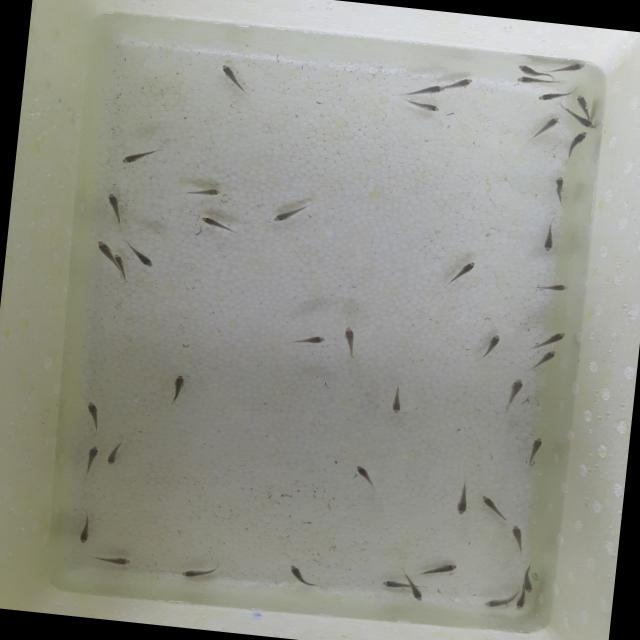fingerling: (439, 256, 484, 296), (214, 59, 252, 97), (120, 140, 167, 170), (398, 78, 446, 104), (178, 180, 228, 204), (347, 459, 380, 495), (525, 112, 562, 144), (475, 490, 512, 522), (418, 555, 460, 582), (559, 128, 590, 164), (502, 521, 534, 554), (534, 216, 560, 256), (527, 346, 564, 374), (270, 200, 307, 228), (527, 276, 573, 298), (285, 562, 322, 589), (477, 327, 505, 362), (402, 96, 446, 118), (175, 562, 219, 584), (498, 374, 524, 411), (72, 512, 100, 546), (198, 214, 238, 237), (78, 441, 105, 475), (450, 481, 473, 520), (520, 433, 546, 467), (534, 328, 570, 352), (164, 369, 188, 405), (102, 190, 126, 226), (95, 550, 138, 570), (286, 331, 328, 351), (546, 170, 568, 208), (566, 90, 598, 116), (81, 396, 105, 430), (552, 58, 592, 78), (337, 323, 359, 358), (128, 246, 158, 270), (518, 564, 540, 593), (384, 388, 406, 416), (104, 440, 126, 468), (510, 59, 544, 77), (511, 74, 551, 88), (481, 592, 512, 610), (449, 73, 477, 92), (532, 88, 563, 104), (377, 575, 404, 593), (91, 236, 114, 256), (407, 586, 428, 604), (512, 592, 530, 612), (112, 252, 128, 273), (575, 116, 597, 130)
